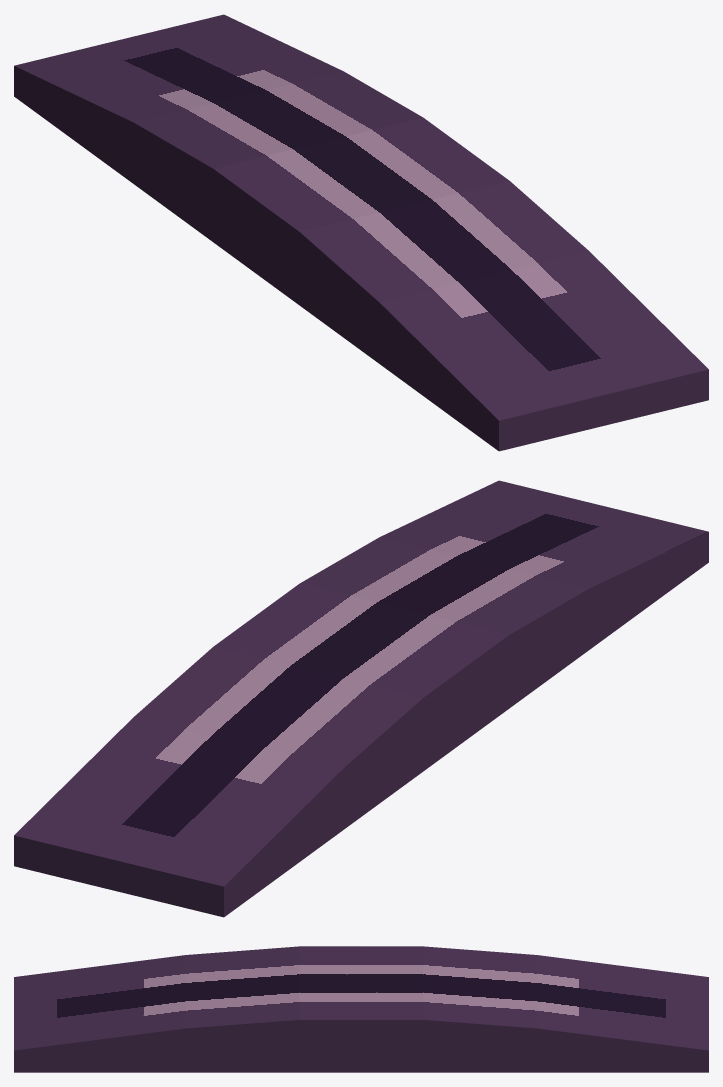
File: lever_base.obj
3 renders of one model, top to bottom at view 1: azimuth 30°, elevation 25°; view 2: azimuth 150°, elevation 25°; view 3: azimuth 270°, elevation 25°, orthographic. The views are drawn at different scales.
Parts seen in each view (by area): view 1: Cube; view 2: Cube; view 3: Cube.
Part boxes in pixels (<box>): Cube: <box>14,14,708,451</box>; Cube: <box>14,480,708,917</box>; Cube: <box>14,946,708,1072</box>.
Size of the model in its own units: 0.25 by 0.0837 by 1.
Materials: 1 (1 with a texture image).
